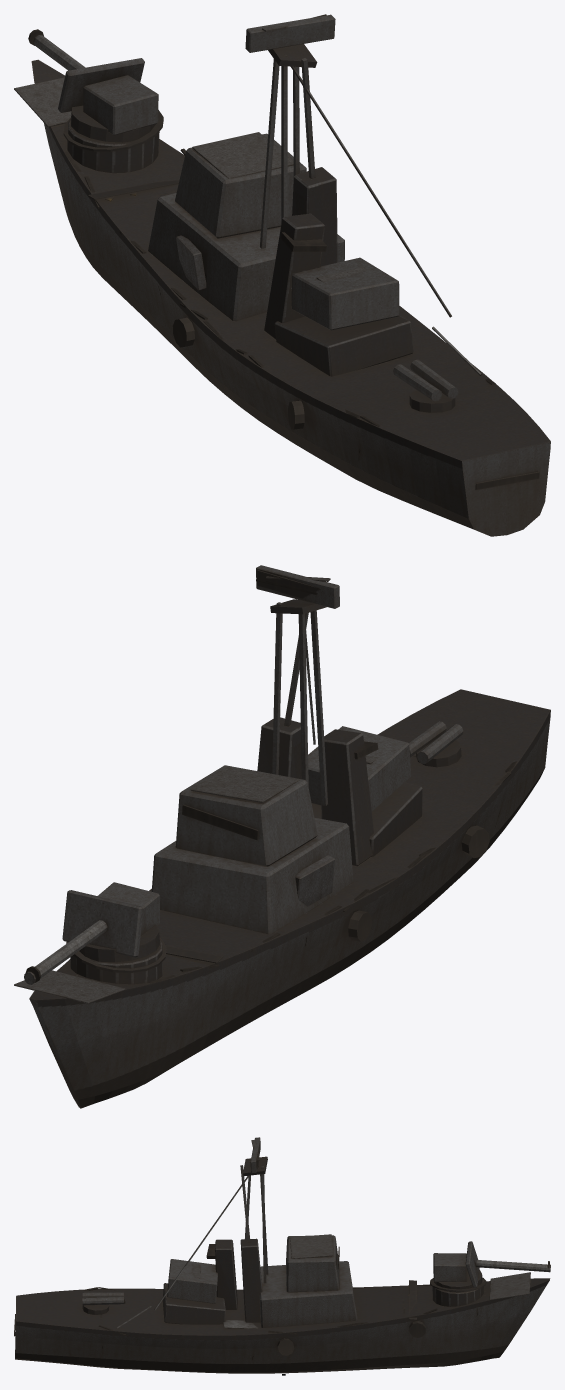
File: chs_corsair_wreck.fbx
The picture shows the model from 3 angles, top to bottom: view 1: azimuth 30°, elevation 25°; view 2: azimuth 150°, elevation 25°; view 3: azimuth 270°, elevation 25°; orthographic projection. The views are drawn at different scales.
Parts seen in each view (by area): view 1: base_bar, turret1_bar, launcher_bar, radar_bar, turret2_bar; view 2: base_bar, turret1_bar, launcher_bar, radar_bar, turret2_bar; view 3: base_bar, turret1_bar, launcher_bar, turret2_bar.
Part boxes in pixels (<box>): base_bar: <box>14,44,550,536</box>; turret1_bar: <box>28,29,158,142</box>; launcher_bar: <box>291,257,399,330</box>; radar_bar: <box>245,14,335,52</box>; turret2_bar: <box>393,359,458,412</box>; base_bar: <box>14,599,550,1108</box>; turret1_bar: <box>24,882,159,984</box>; launcher_bar: <box>308,726,411,811</box>; radar_bar: <box>256,565,339,608</box>; turret2_bar: <box>409,721,463,767</box>; base_bar: <box>14,1156,550,1373</box>; turret1_bar: <box>433,1241,550,1292</box>; launcher_bar: <box>167,1259,217,1303</box>; turret2_bar: <box>82,1292,125,1314</box>.
Size of the model in its own units: 656 by 1329 by 2865.
2 materials, 2 textured.
